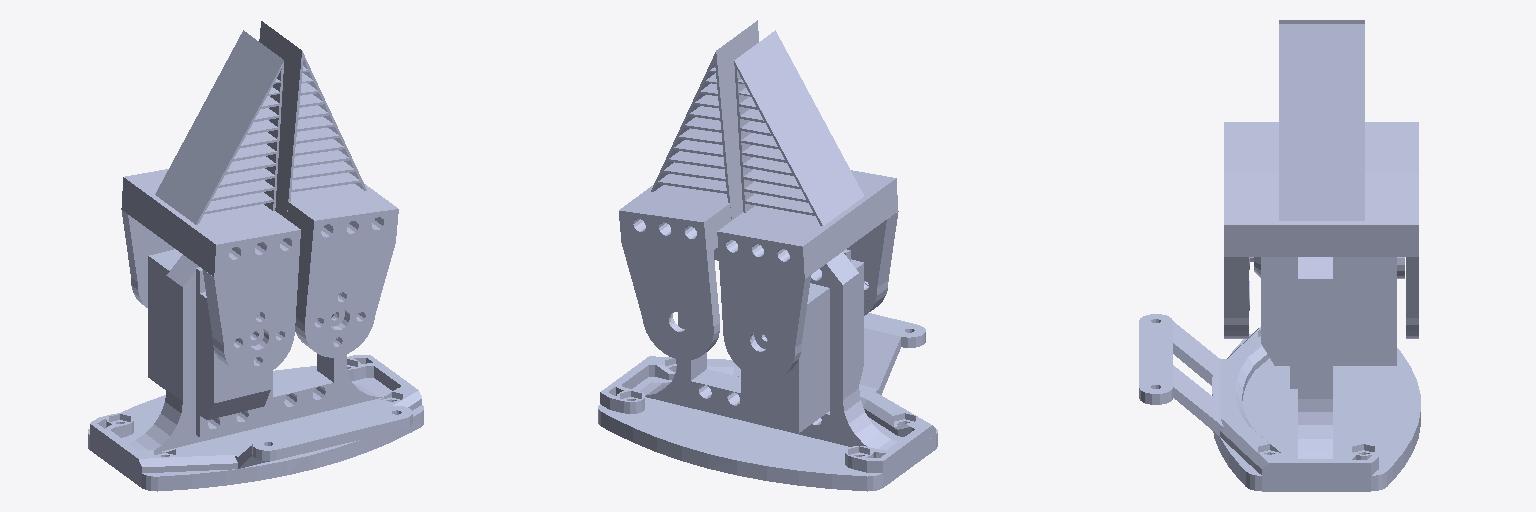
The robot description file, URDF, robot "youbot_gripper_simulation":
<?xml version="1.0" encoding="utf-8"?>
<!-- This URDF was automatically created by SolidWorks to URDF Exporter! Originally created by [author] ([email redacted]) 
     Commit Version: 1.6.0-1-g15f4949  Build Version: 1.6.7594.29634
     For more information, please see http://wiki.ros.org/sw_urdf_exporter -->
<robot
  name="youbot_gripper_simulation">
  <link
    name="base_holder_link">
    <inertial>
      <origin
        xyz="-0.015491495243161 0.0134058939577222 0.00371507655788619"
        rpy="0 0 0" />
      <mass
        value="0.382706237757779" />
      <inertia
        ixx="0.000195298769640711"
        ixy="-1.32167505207369E-08"
        ixz="-4.42404549334983E-08"
        iyy="0.000298217600026634"
        iyz="-4.97606731526423E-06"
        izz="0.000356774474911275" />
    </inertial>
    <visual>
      <origin
        xyz="0 0 0"
        rpy="0 0 0" />
      <geometry>
        <mesh
          filename="package://youbot_gripper_simulation/meshes/base_holder_link.STL" />
      </geometry>
      <material
        name="">
        <color
          rgba="0.792156862745098 0.819607843137255 0.933333333333333 1" />
      </material>
    </visual>
    <collision>
      <origin
        xyz="0 0 0"
        rpy="0 0 0" />
      <geometry>
        <mesh
          filename="package://youbot_gripper_simulation/meshes/base_holder_link.STL" />
      </geometry>
    </collision>
  </link>
  <link
    name="servo_right_link">
    <inertial>
      <origin
        xyz="0.020150145575314 0.0101 0.0198454858796802"
        rpy="0 0 0" />
      <mass
        value="0.0338275279922958" />
      <inertia
        ixx="5.70756586656377E-06"
        ixy="8.04231059094176E-23"
        ixz="8.86766496554433E-08"
        iyy="9.51111668532985E-06"
        iyz="-1.77762496590663E-22"
        izz="6.07620941885605E-06" />
    </inertial>
    <visual>
      <origin
        xyz="0 0 0"
        rpy="0 0 0" />
      <geometry>
        <mesh
          filename="package://youbot_gripper_simulation/meshes/servo_right_link.STL" />
      </geometry>
      <material
        name="">
        <color
          rgba="0.792156862745098 0.819607843137255 0.933333333333333 1" />
      </material>
    </visual>
    <collision>
      <origin
        xyz="0 0 0"
        rpy="0 0 0" />
      <geometry>
        <mesh
          filename="package://youbot_gripper_simulation/meshes/servo_right_link.STL" />
      </geometry>
    </collision>
  </link>
  <joint
    name="servo_right_joint"
    type="fixed">
    <origin
      xyz="-0.011391 0.0238 0.0564"
      rpy="1.5708 1.5708 0" />
    <parent
      link="base_holder_link" />
    <child
      link="servo_right_link" />
    <axis
      xyz="0 0 0" />
  </joint>
  <link
    name="finger_right_link">
    <inertial>
      <origin
        xyz="-0.00107193969229475 0.0273387226840809 -0.0229648619610665"
        rpy="0 0 0" />
      <mass
        value="0.219669857119581" />
      <inertia
        ixx="4.77780286431822E-05"
        ixy="-1.87672997759881E-06"
        ixz="3.56804581083201E-07"
        iyy="2.76422154312974E-05"
        iyz="-8.05261824668597E-07"
        izz="5.21594938423751E-05" />
    </inertial>
    <visual>
      <origin
        xyz="0 0 0"
        rpy="0 0 0" />
      <geometry>
        <mesh
          filename="package://youbot_gripper_simulation/meshes/finger_right_link.STL" />
      </geometry>
      <material
        name="">
        <color
          rgba="0.792156862745098 0.819607843137255 0.933333333333333 1" />
      </material>
    </visual>
    <collision>
      <origin
        xyz="0 0 0"
        rpy="0 0 0" />
      <geometry>
        <mesh
          filename="package://youbot_gripper_simulation/meshes/finger_right_link.STL" />
      </geometry>
    </collision>
  </link>
  <joint
    name="finger_right_joint"
    type="continuous">
    <origin
      xyz="0.0102 0.0101 0"
      rpy="3.1416 0 -1.669" />
    <parent
      link="servo_right_link" />
    <child
      link="finger_right_link" />
    <axis
      xyz="0 0 1" />
  </joint>
  <link
    name="servo_left_link">
    <inertial>
      <origin
        xyz="0.020150145575314 0.0101 0.0198454858796802"
        rpy="0 0 0" />
      <mass
        value="0.0338275279922958" />
      <inertia
        ixx="5.70756586656377E-06"
        ixy="5.68932882048631E-23"
        ixz="8.86766496554432E-08"
        iyy="9.51111668532985E-06"
        iyz="-9.56444602944626E-23"
        izz="6.07620941885605E-06" />
    </inertial>
    <visual>
      <origin
        xyz="0 0 0"
        rpy="0 0 0" />
      <geometry>
        <mesh
          filename="package://youbot_gripper_simulation/meshes/servo_left_link.STL" />
      </geometry>
      <material
        name="">
        <color
          rgba="0.792156862745098 0.819607843137255 0.933333333333333 1" />
      </material>
    </visual>
    <collision>
      <origin
        xyz="0 0 0"
        rpy="0 0 0" />
      <geometry>
        <mesh
          filename="package://youbot_gripper_simulation/meshes/servo_left_link.STL" />
      </geometry>
    </collision>
  </link>
  <joint
    name="servo_left_link"
    type="fixed">
    <origin
      xyz="-0.039791 0.0238 0.0564"
      rpy="1.5708 1.5708 0" />
    <parent
      link="base_holder_link" />
    <child
      link="servo_left_link" />
    <axis
      xyz="0 0 0" />
  </joint>
  <link
    name="finger_left_link">
    <inertial>
      <origin
        xyz="0.00107193969229474 0.027338722684081 -0.0229648619610666"
        rpy="0 0 0" />
      <mass
        value="0.219669857119581" />
      <inertia
        ixx="4.77780286431821E-05"
        ixy="1.8767299775988E-06"
        ixz="-3.56804581083246E-07"
        iyy="2.76422154312974E-05"
        iyz="-8.05261824668593E-07"
        izz="5.2159493842375E-05" />
    </inertial>
    <visual>
      <origin
        xyz="0 0 0"
        rpy="0 0 0" />
      <geometry>
        <mesh
          filename="package://youbot_gripper_simulation/meshes/finger_left_link.STL" />
      </geometry>
      <material
        name="">
        <color
          rgba="0.792156862745098 0.819607843137255 0.933333333333333 1" />
      </material>
    </visual>
    <collision>
      <origin
        xyz="0 0 0"
        rpy="0 0 0" />
      <geometry>
        <mesh
          filename="package://youbot_gripper_simulation/meshes/finger_left_link.STL" />
      </geometry>
    </collision>
  </link>
  <joint
    name="finger_left_joint"
    type="continuous">
    <origin
      xyz="0.0102 0.0101 0"
      rpy="3.1416 0 -1.6341" />
    <parent
      link="servo_left_link" />
    <child
      link="finger_left_link" />
    <axis
      xyz="0 0 1" />
  </joint>
</robot>

--- Render facts (derived) ---
3 views of the same robot in one strip: view 1: azimuth 30°, elevation 25°; view 2: azimuth 150°, elevation 25°; view 3: azimuth 270°, elevation 25° (orthographic).
Model youbot_gripper_simulation with 5 links and 4 joints (2 continuous, 2 fixed), rooted at base_holder_link, posed all joints at 0.
Links seen in each view (by area): view 1: finger_left_link, base_holder_link, finger_right_link, servo_left_link; view 2: finger_left_link, base_holder_link, finger_right_link, servo_left_link; view 3: base_holder_link, finger_right_link, servo_left_link, finger_left_link.
Link boxes in pixels (<box>): finger_left_link: <box>121,30,300,376</box>; base_holder_link: <box>88,255,423,491</box>; finger_right_link: <box>259,21,398,357</box>; servo_left_link: <box>148,249,270,436</box>; finger_left_link: <box>717,30,898,379</box>; base_holder_link: <box>598,248,937,491</box>; finger_right_link: <box>619,20,758,360</box>; servo_left_link: <box>741,249,863,433</box>; base_holder_link: <box>1139,257,1420,491</box>; finger_right_link: <box>1224,24,1418,338</box>; servo_left_link: <box>1250,257,1404,388</box>; finger_left_link: <box>1224,20,1418,269</box>.
Bounding box of the posed robot: 0.0988 × 0.082 × 0.1313 m (x, y, z).
Meshes: 5 distinct files referenced, 4 mesh visuals loaded (4 binary STL); not drawn: 1 (reference not matched to a file when rendering).